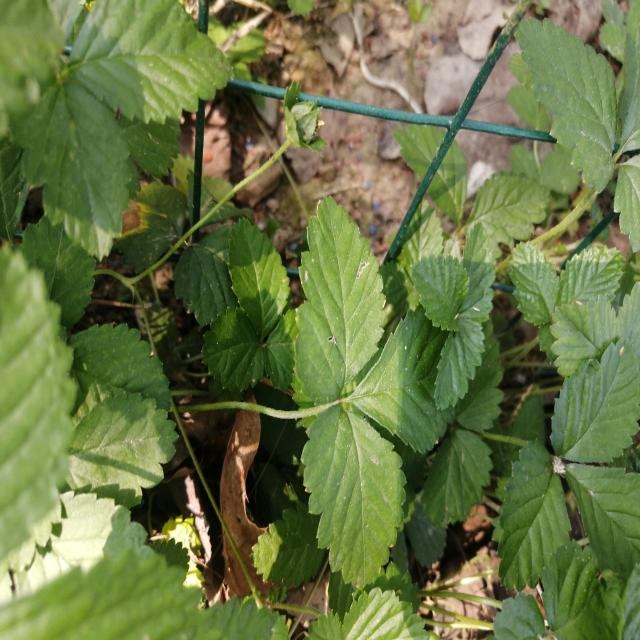Mock_strawberry: (292, 204, 461, 578)
